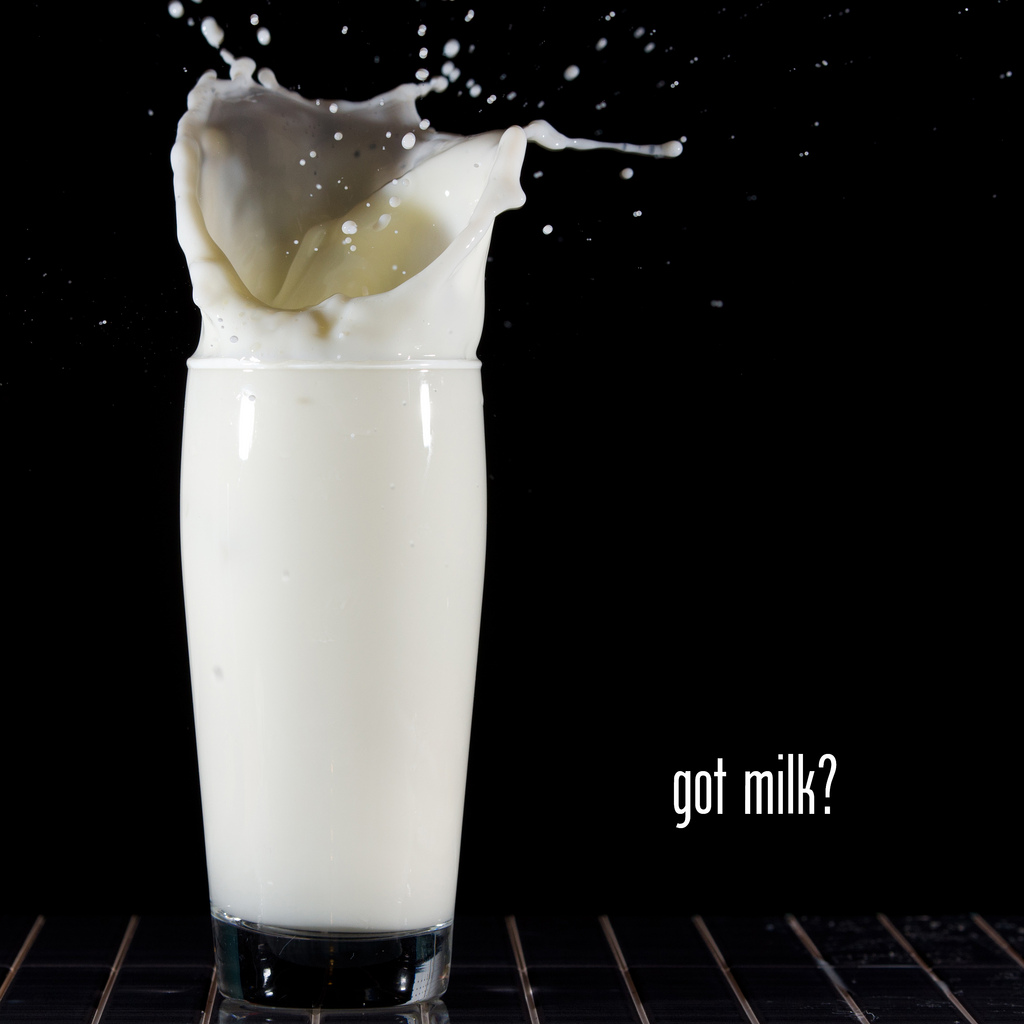glass of milk: (146, 311, 492, 1024)
